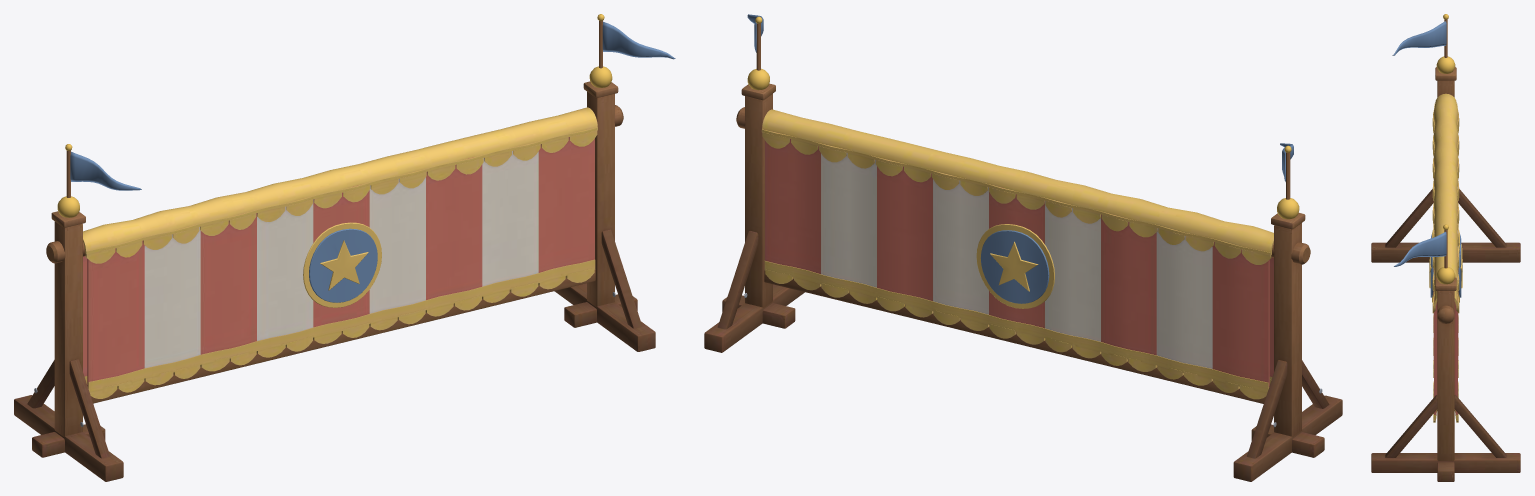
The model's file is valla_justas.glb.
3 renders of one model, left to right at view 1: azimuth 30°, elevation 25°; view 2: azimuth 150°, elevation 25°; view 3: azimuth 270°, elevation 25°, orthographic. The views are drawn at different scales.
Visible parts, largest first — view 1: jousting-barrier_body; view 2: jousting-barrier_body; view 3: jousting-barrier_body.
Boxes of the visible parts, x1=… form: jousting-barrier_body: x1=14, y1=14, x2=675, y2=481; jousting-barrier_body: x1=704, y1=14, x2=1342, y2=481; jousting-barrier_body: x1=1371, y1=14, x2=1520, y2=481.
Size of the model in its own units: 4.56 by 2.17 by 1.2.
Materials: 7 (1 with a texture image).
